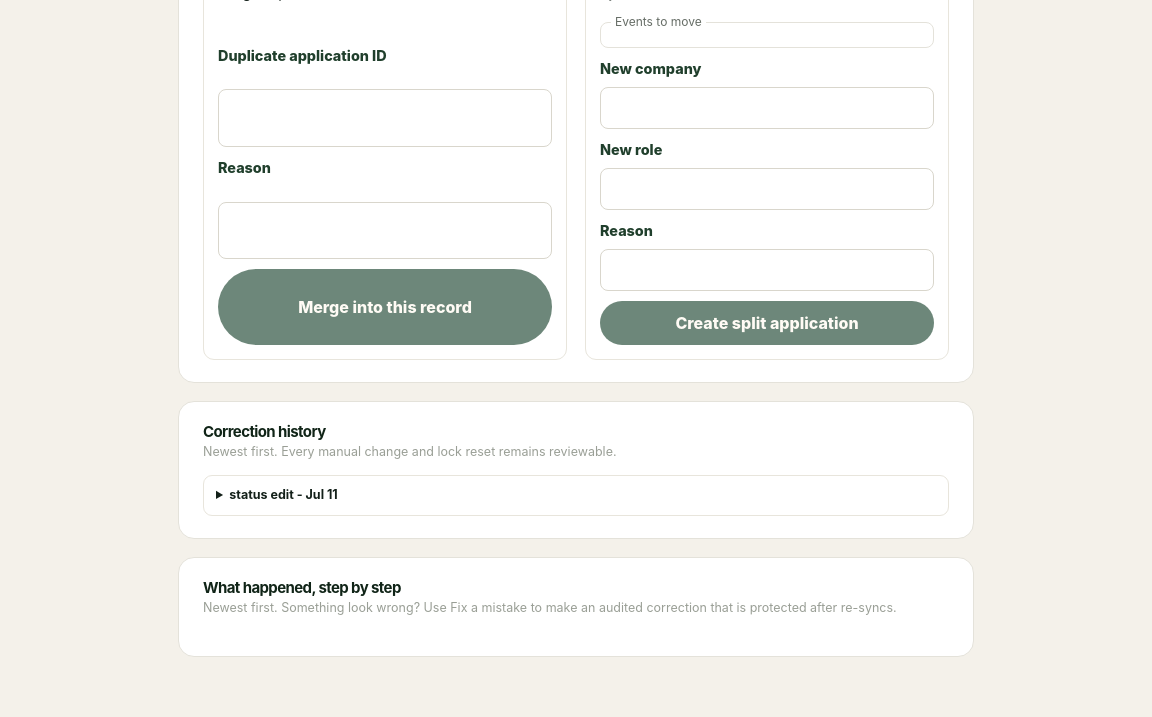
Test case: DetailPage corrections › shows the lock, conflicting evidence, and visible correction audit
This screenshot has width=1152, height=717.
(page scrolled)
Click the heading "status edit - Jul 11" at {"x": 284, "y": 495}, box [229, 487, 338, 502]
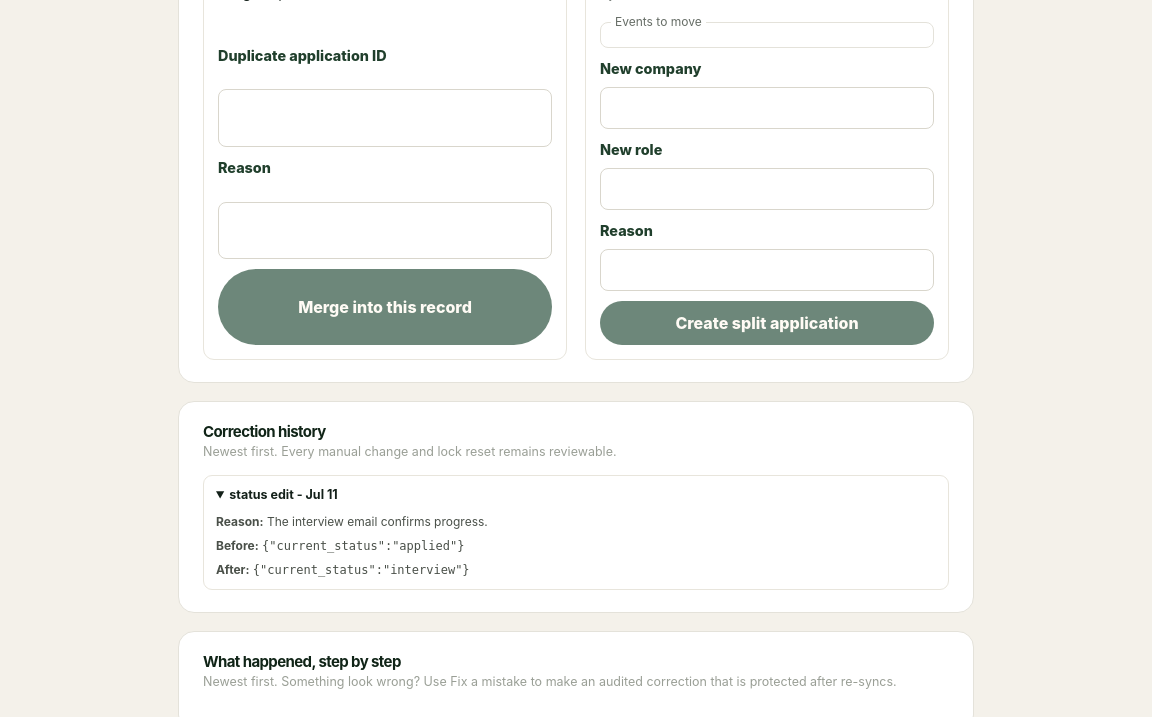
Result: the text "Reason: The interview email confirms progress." is shown at [216, 514, 488, 529]
